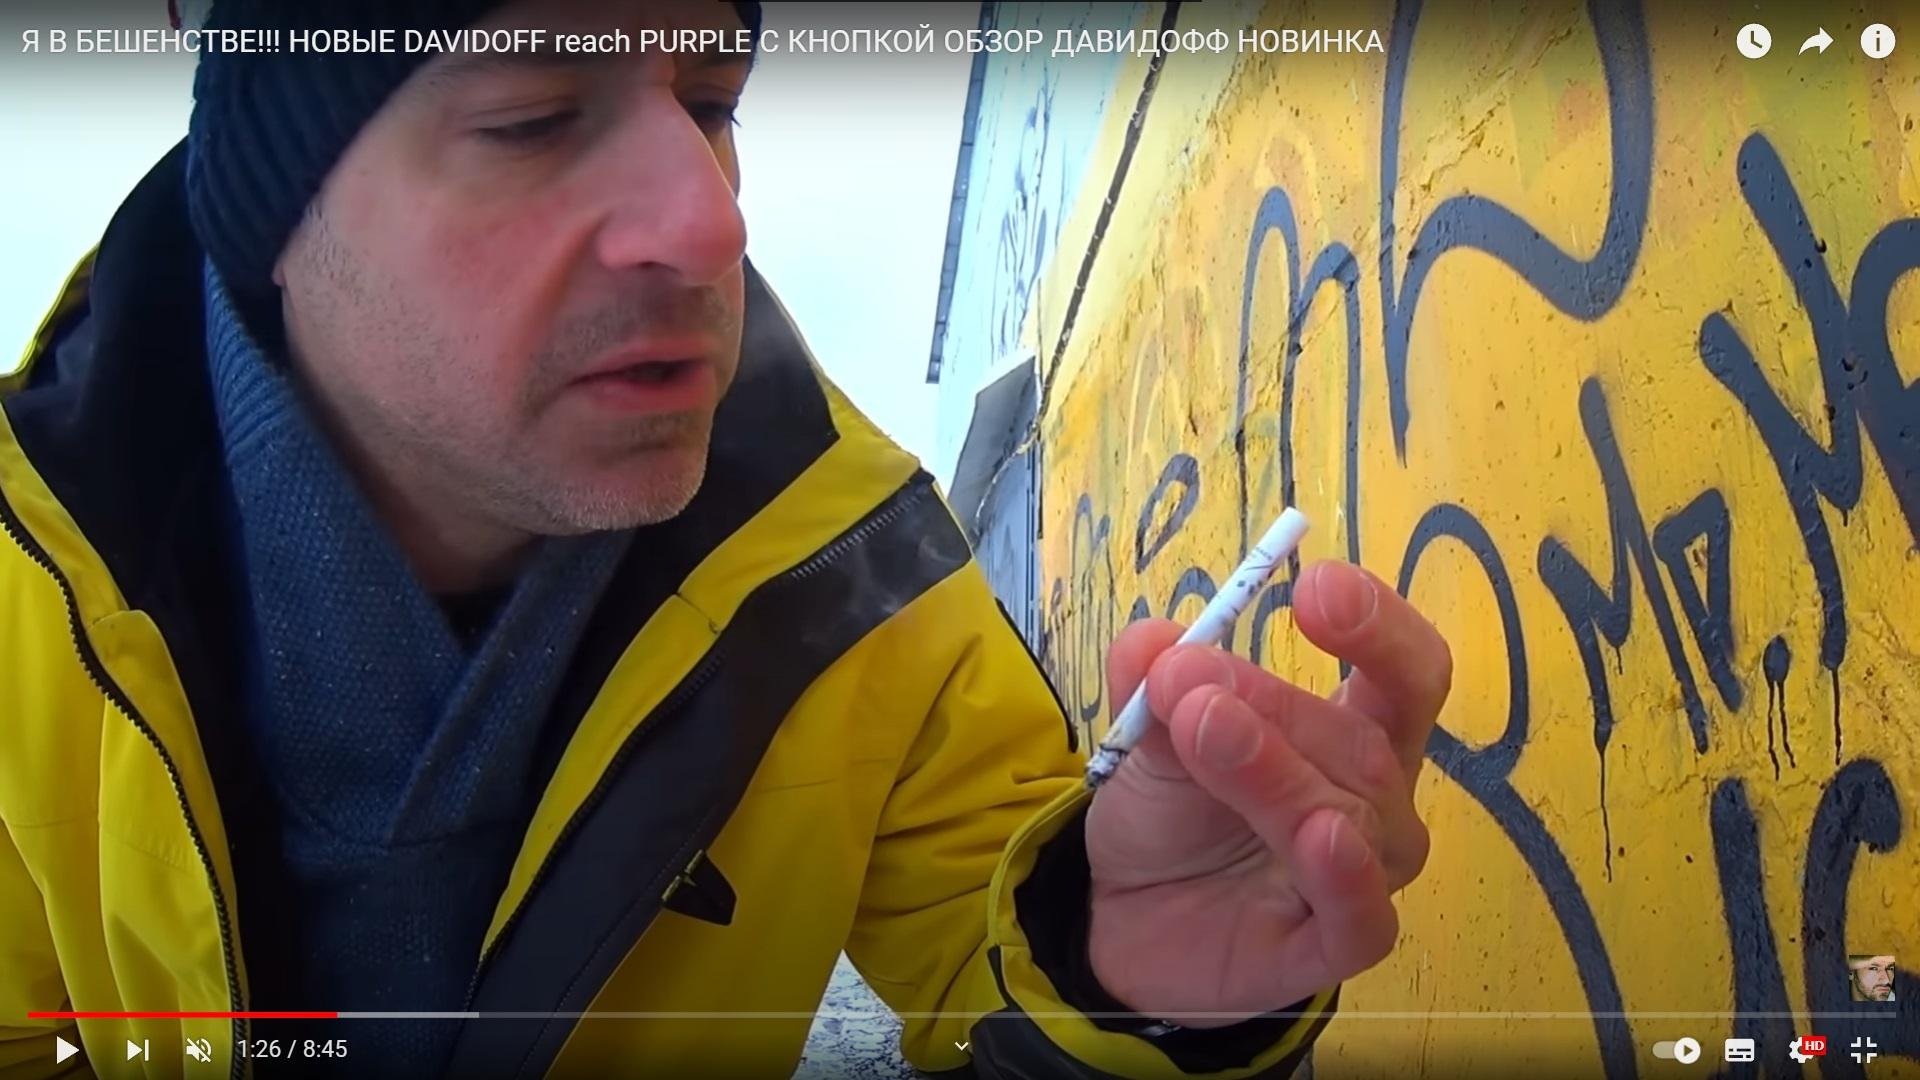cigarette: (1083, 504, 1311, 793)
